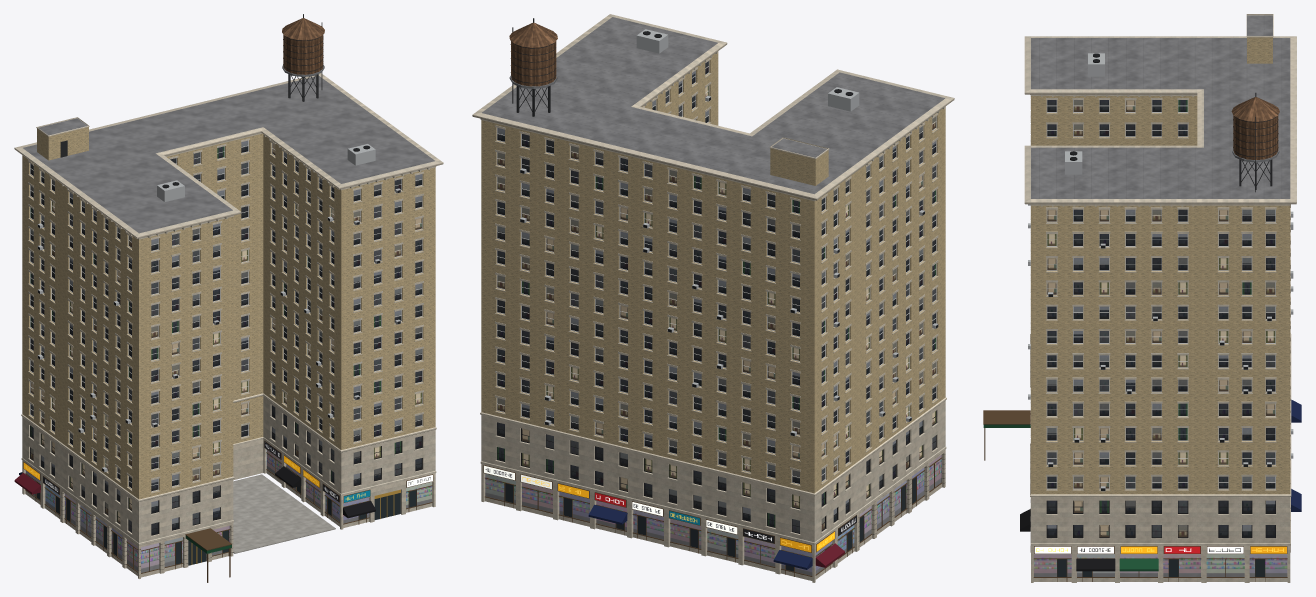
The model's file is hd04_lightcourt_apartments.gltf.
3 views of the same model, side by side, from view 1: azimuth 30°, elevation 25°; view 2: azimuth 150°, elevation 25°; view 3: azimuth 270°, elevation 25° (orthographic). The views are drawn at different scales.
Visible parts, largest first — view 1: hd04_lightcourt_apartments_LOD0; view 2: hd04_lightcourt_apartments_LOD0; view 3: hd04_lightcourt_apartments_LOD0.
Boxes of the visible parts, x1=… form: hd04_lightcourt_apartments_LOD0: x1=14, y1=14, x2=443, y2=582; hd04_lightcourt_apartments_LOD0: x1=472, y1=14, x2=954, y2=582; hd04_lightcourt_apartments_LOD0: x1=983, y1=14, x2=1301, y2=582.
Size of what is drawn, in the model's own units: 46.6 by 60.45 by 36.82.
Materials: 23 (9 with a texture image).
